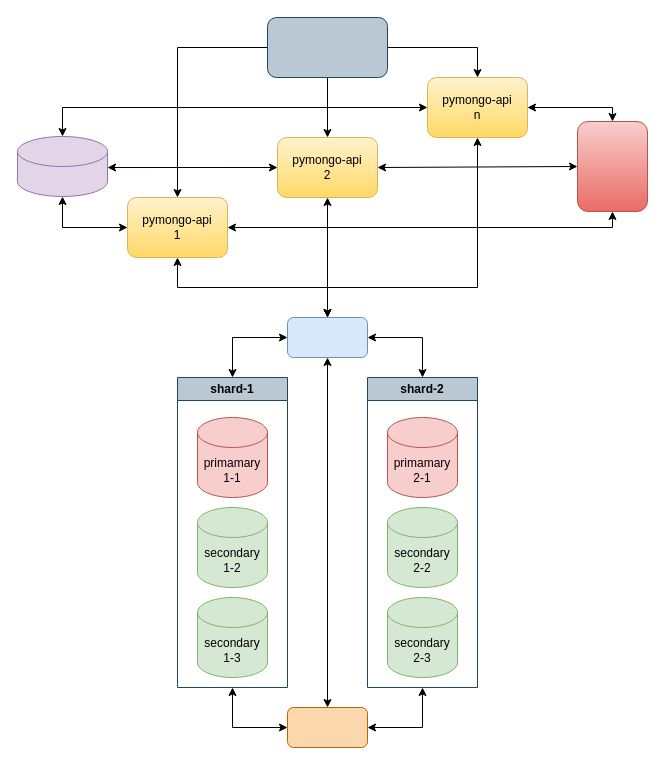
This 665x765 diagram has some shape labels left out. Here are the shapes that lost their labels. From the top down, the centre of each, then its label:
At pixel 327 47: "api-gateway".
At pixel 62 166: "redis".
At pixel 612 166: "Service Discovery".
At pixel 327 337: "mongos-router".
At pixel 327 727: "config-srv".
